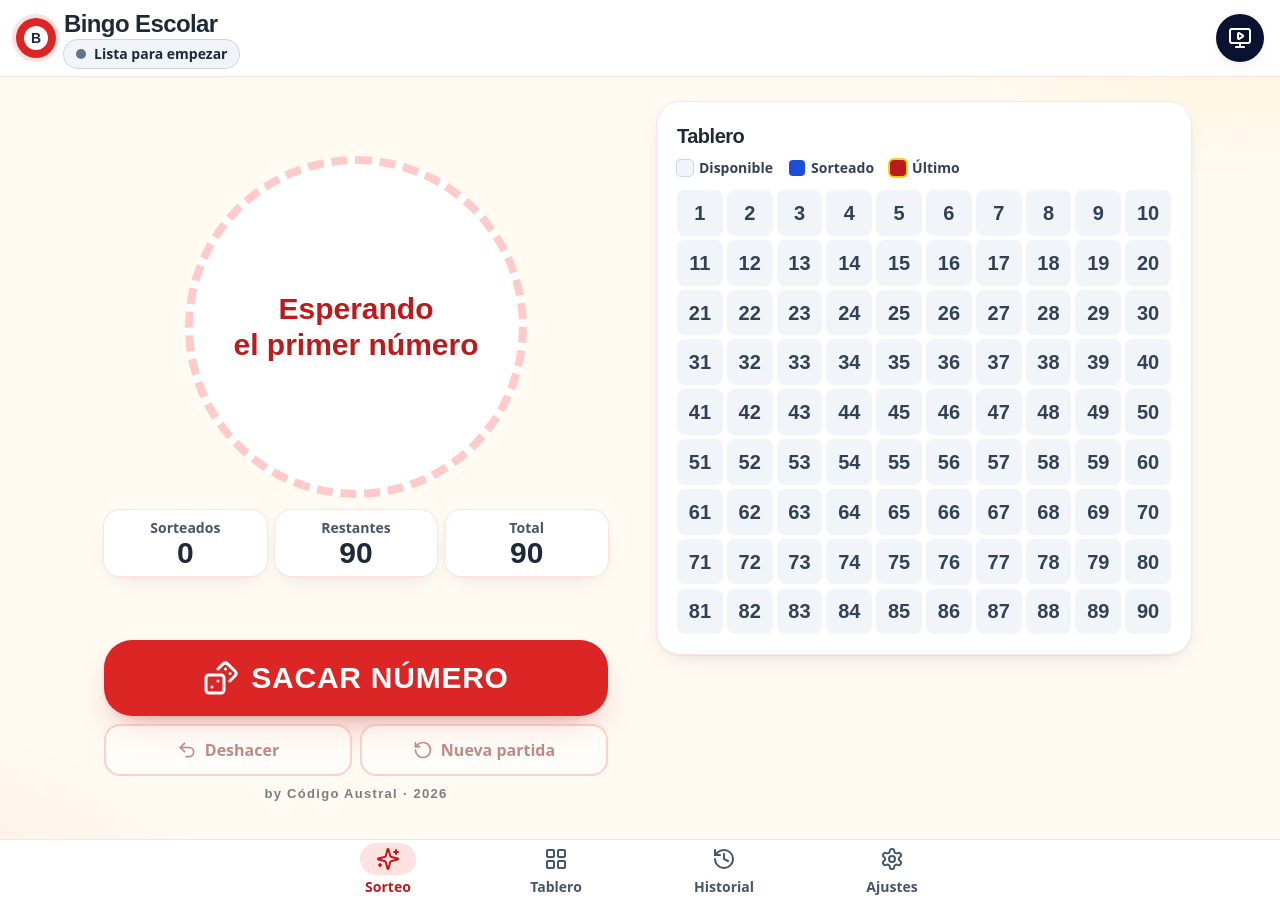
Scenario: App: ajustes › rango inválido 40-10 muestra un mensaje y no cambia nada
The image size is (1280, 900).
Click the button "Ajustes": (892, 870) 808,840 -> 976,899
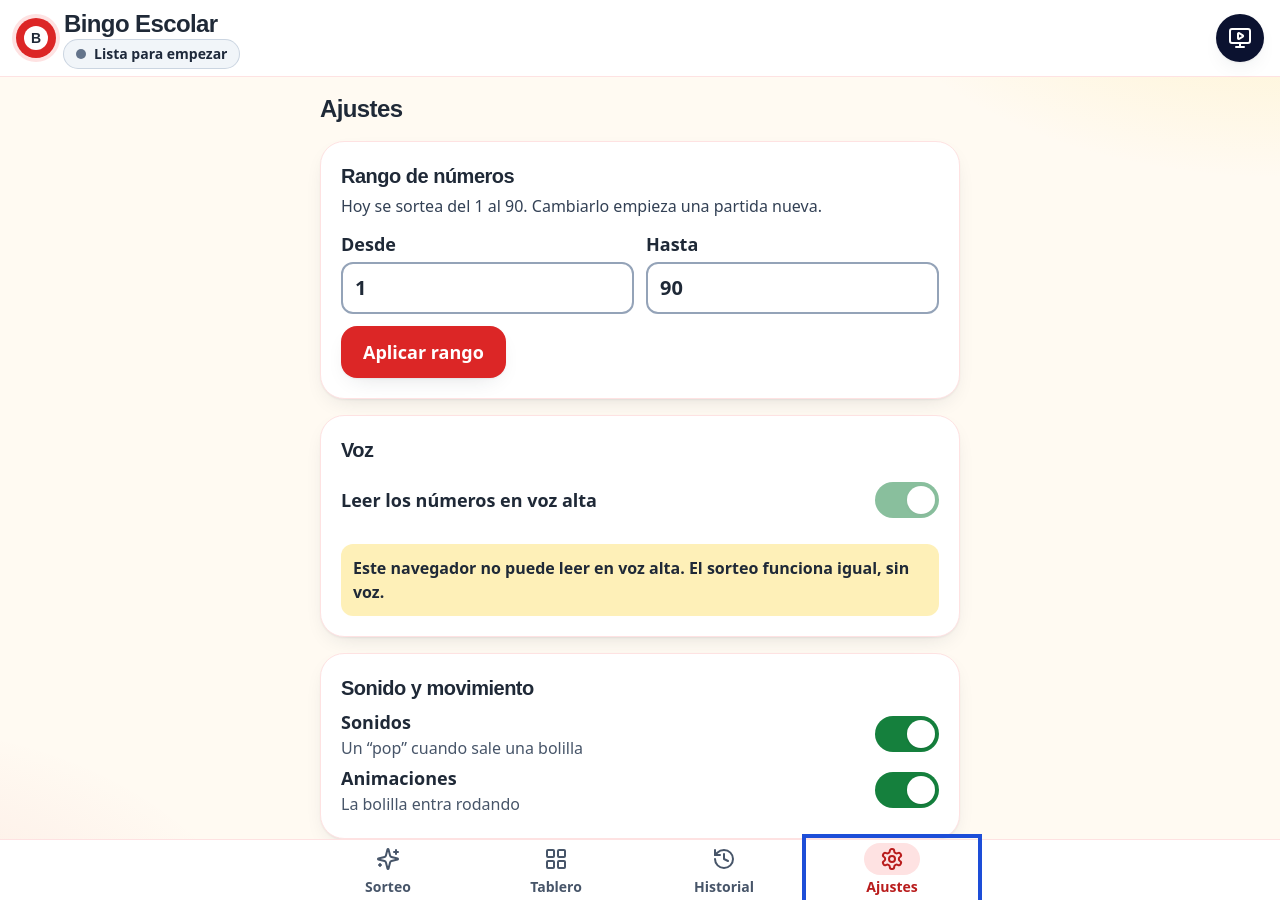
Replace the text in the number field labelled "Desde" with "40": (488, 288) 341,262 -> 634,314
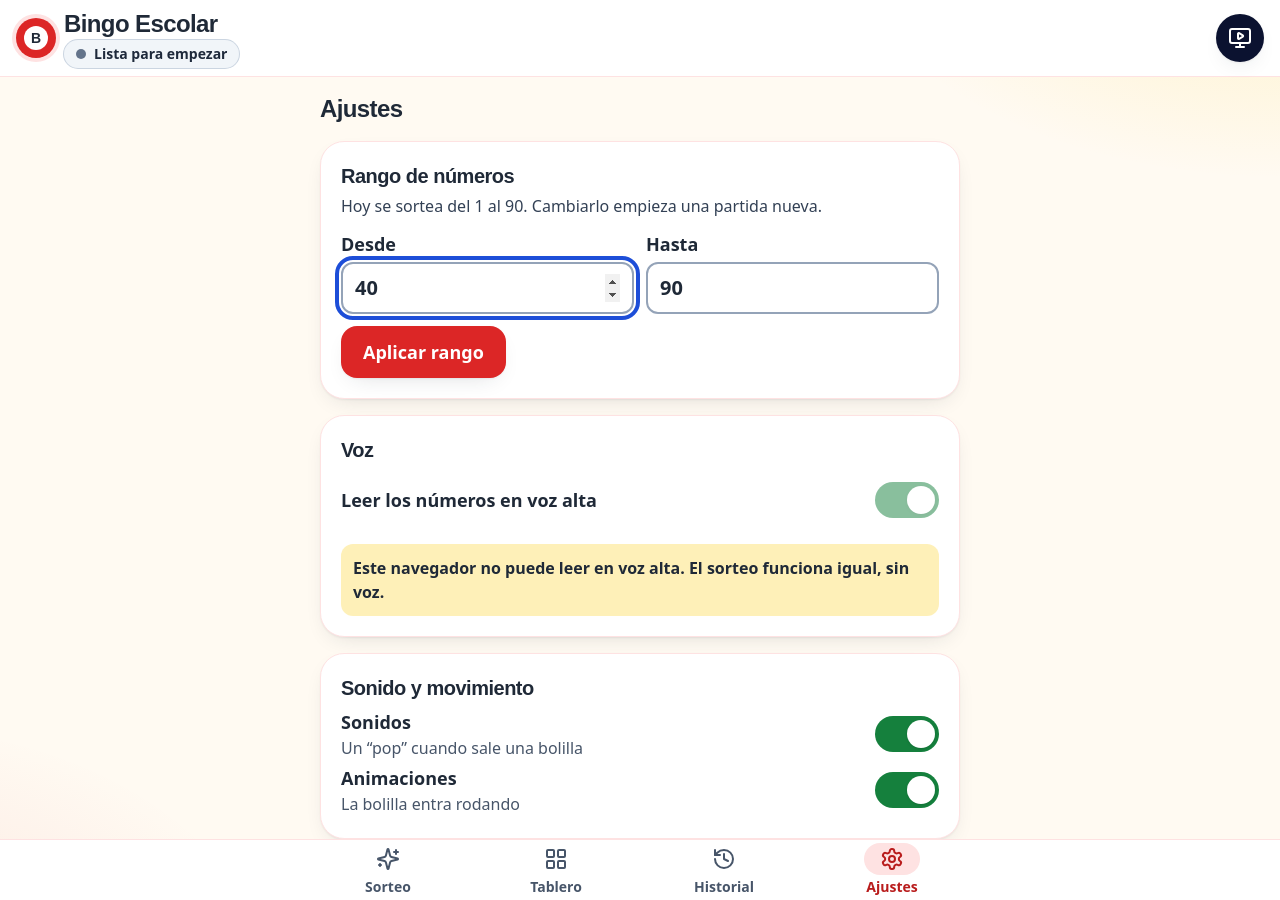
Replace the text in the number field labelled "Hasta" with "10": (792, 288) 646,262 -> 939,314
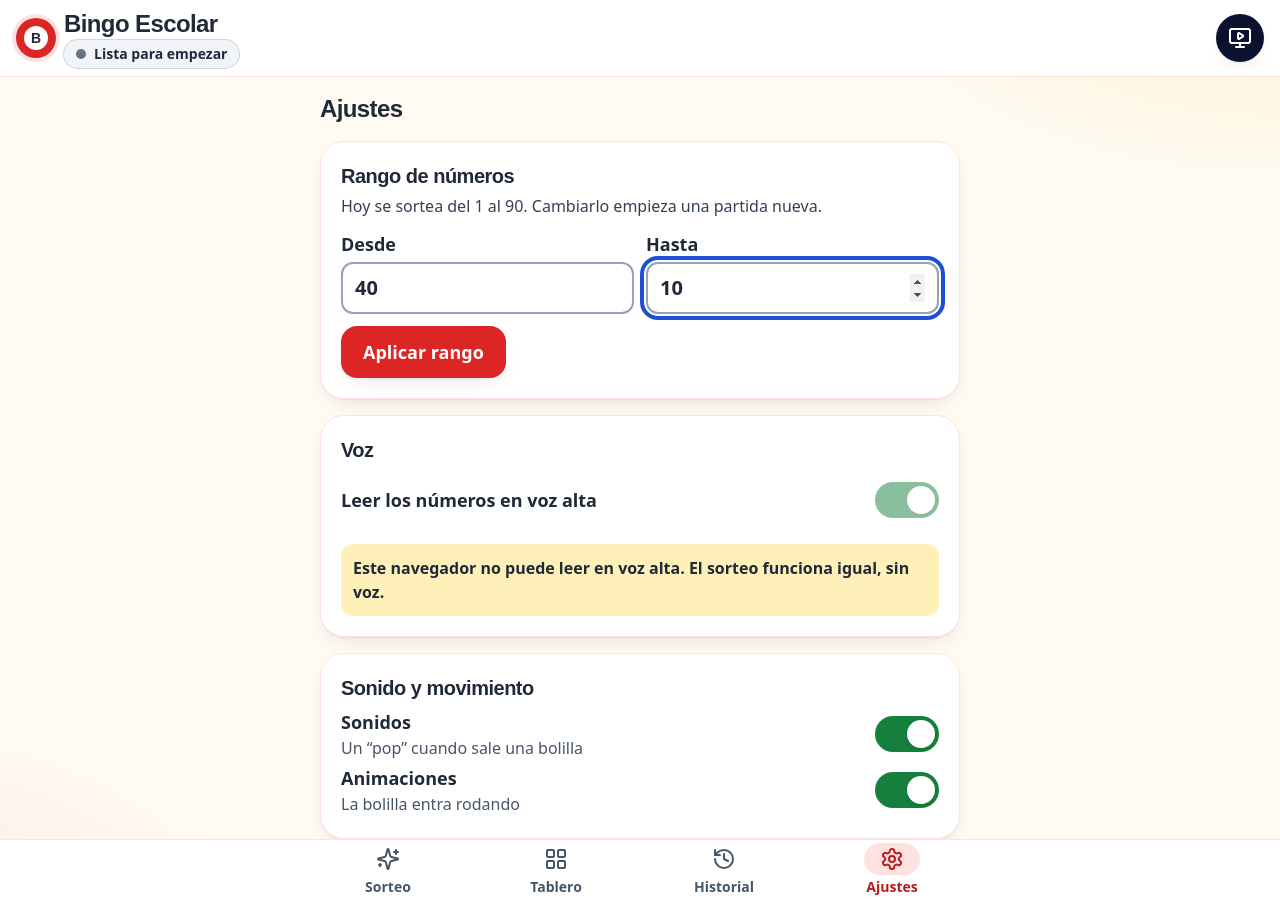
Click the button "Aplicar rango": (423, 352) 341,326 -> 506,378
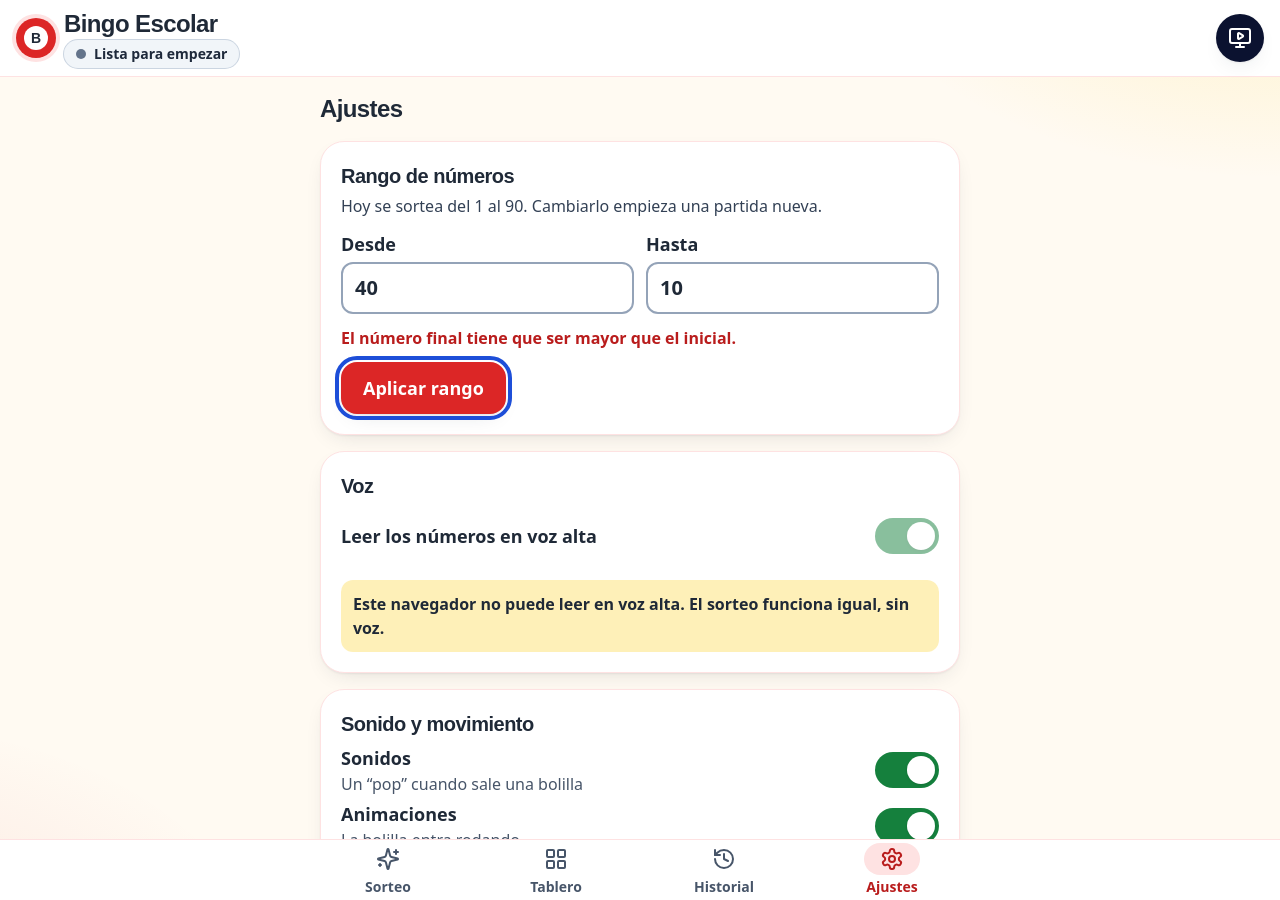
Expected: the text "El número final tiene que ser mayor que el inicial." is shown, 341,327 -> 736,349
